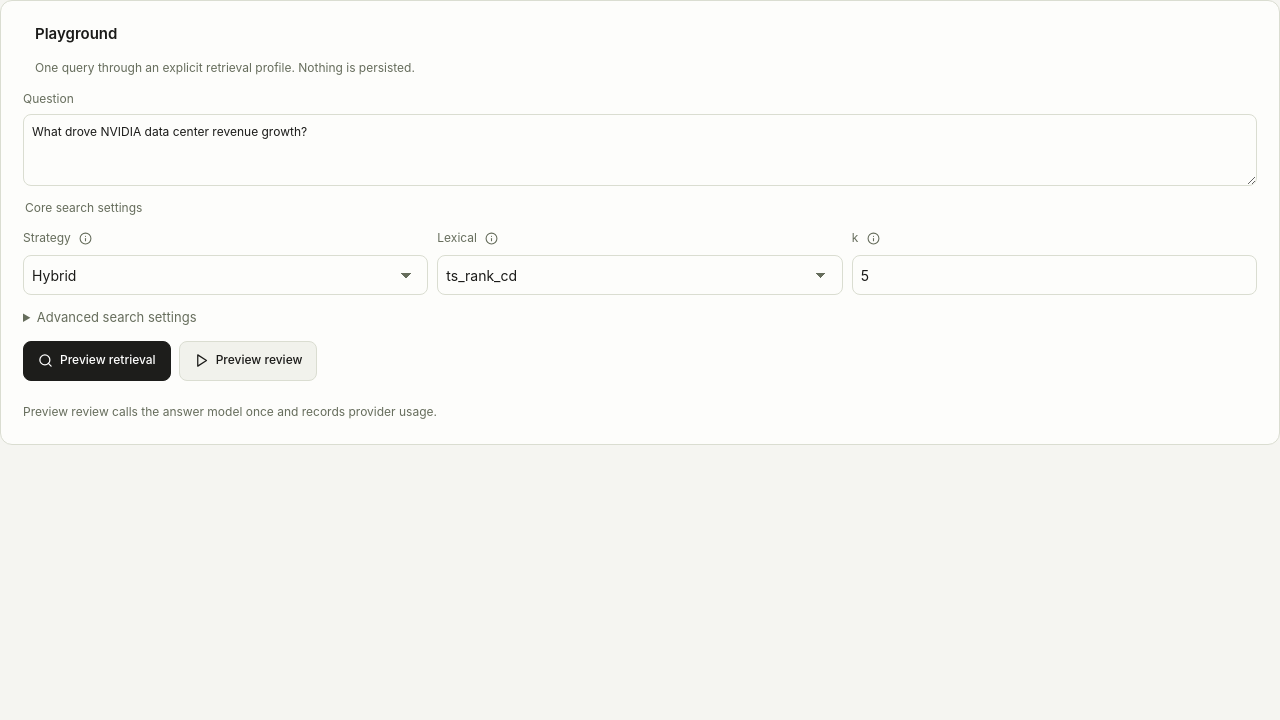
it: Playground › renders the score stage, component rankings, and fused evidence from a retrieval preview
Expected: the text box named "Playground question" holds "What drove NVIDIA data center revenue growth?", [23,114,1257,186]
Expected: the dropdown labelled "Strategy" is shown, [23,255,428,295]
Click the button "Preview retrieval" at (97,361), box [23,341,171,381]
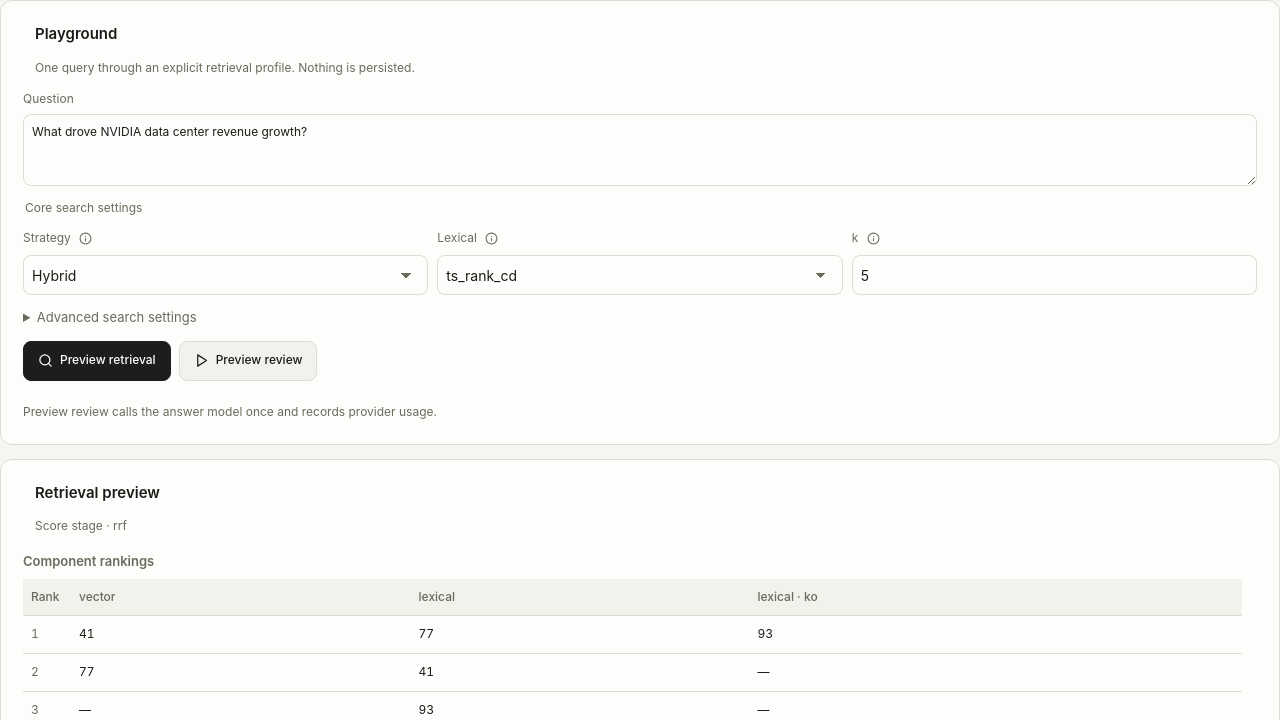
Expected: the text "Score stage · rrf" is shown, [35,518,127,533]
Expected: the column heading "vector" is shown, [71,579,411,616]
Expected: the column heading "lexical" is shown, [411,579,750,616]
